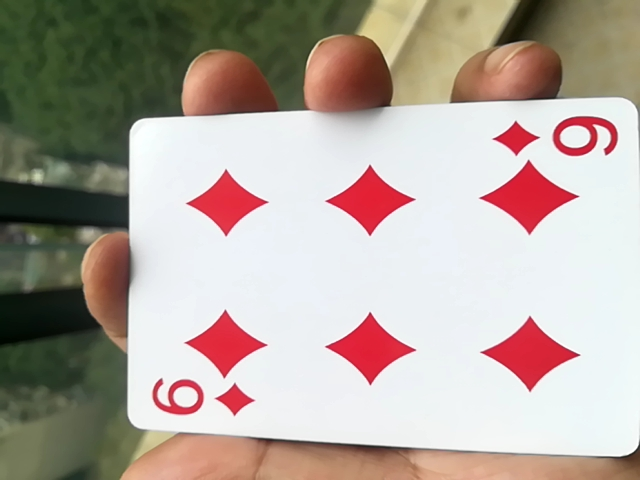fk 6: (115, 117, 636, 469)
